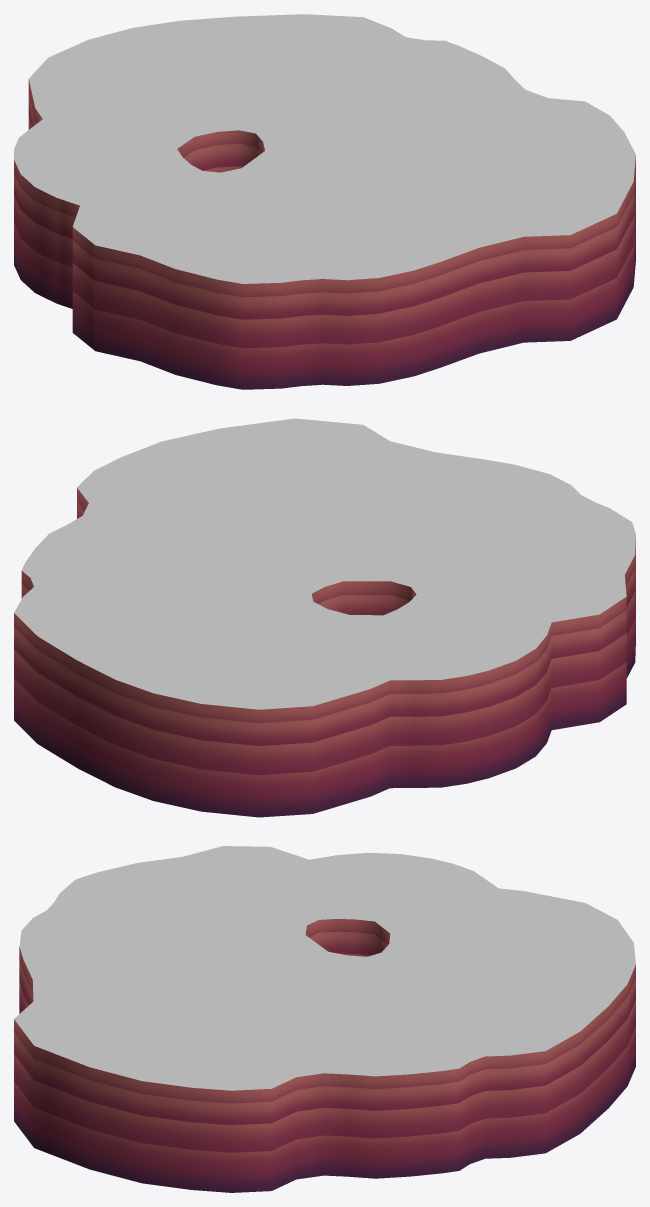
Rendered from Mdl_Island.fbx.
3 views of the same model, one above another, from view 1: azimuth 30°, elevation 25°; view 2: azimuth 150°, elevation 25°; view 3: azimuth 270°, elevation 25° (orthographic). The views are drawn at different scales.
Visible parts, largest first — view 1: Plane; view 2: Plane; view 3: Plane.
Part boxes in pixels (bbox=[...]): Plane: bbox=[14, 14, 635, 389]; Plane: bbox=[14, 418, 635, 817]; Plane: bbox=[14, 846, 635, 1192].
Size of the model in its own units: 3404 by 663 by 3656.
